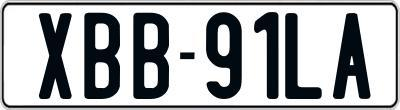1: (252, 9, 279, 96)
9: (203, 9, 245, 100)
A: (332, 11, 369, 102)
B: (132, 13, 174, 99), (84, 13, 122, 103)
L: (284, 13, 323, 99)
X: (37, 12, 71, 102)
